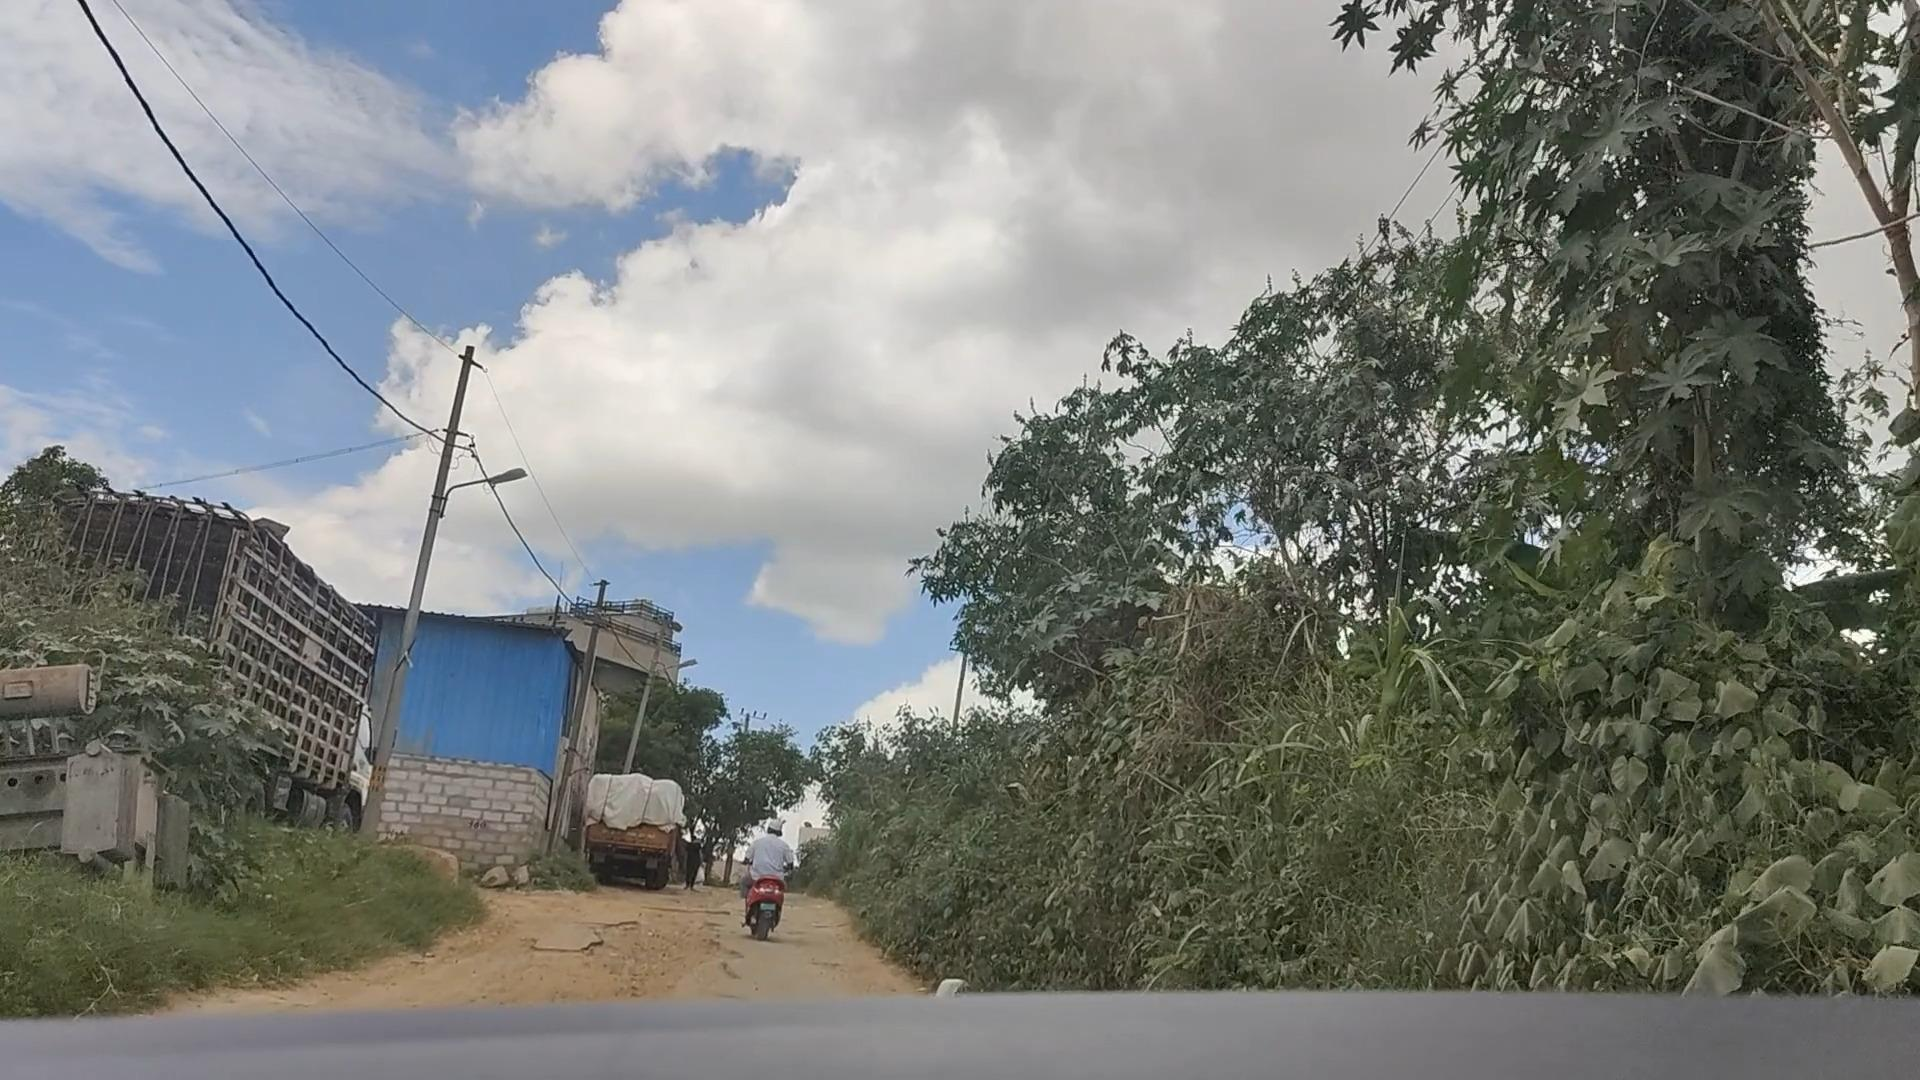HMV: (579, 769, 691, 901)
RoadDamages: (464, 914, 762, 1015)
